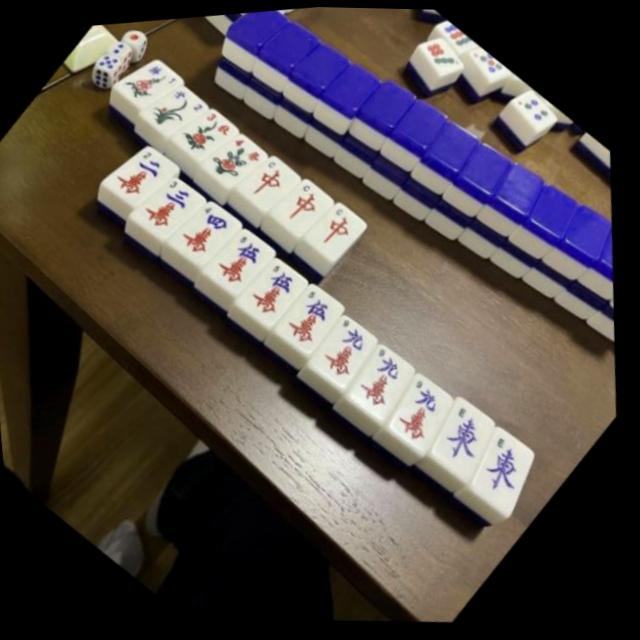bf1: (116, 66, 186, 117)
bf2: (145, 91, 213, 143)
bs3: (175, 114, 242, 167)
bs4: (205, 138, 271, 194)
hdr: (274, 180, 339, 241), (239, 158, 306, 217), (309, 203, 372, 265)
hwe: (480, 426, 542, 512), (439, 397, 503, 480)
sc2: (106, 152, 184, 215)
sc3: (134, 183, 211, 248)
sc4: (172, 205, 247, 273)
sc5: (242, 261, 314, 333), (281, 286, 351, 359), (209, 232, 281, 301)
sc9: (314, 317, 384, 393), (395, 373, 460, 453), (354, 346, 421, 423)
